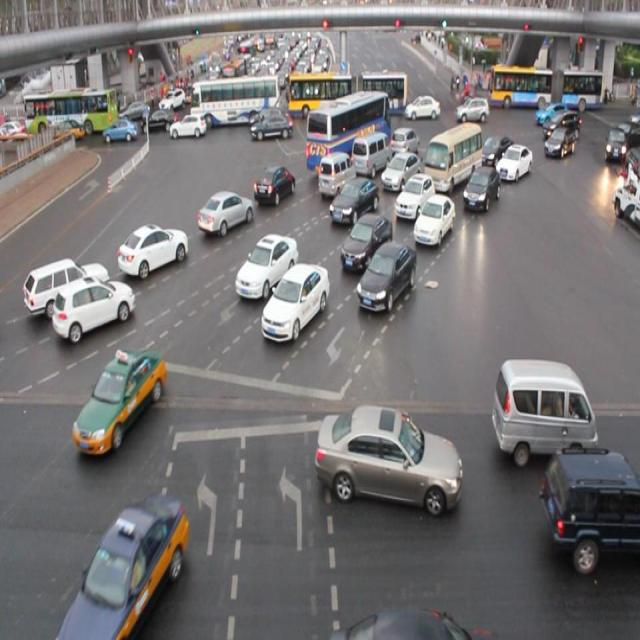car: (57, 492, 188, 640), (313, 404, 463, 514), (541, 448, 640, 574), (71, 346, 168, 459), (261, 263, 331, 345), (55, 275, 136, 344), (23, 255, 109, 319), (234, 233, 297, 298), (356, 244, 416, 311), (117, 222, 188, 278), (339, 214, 392, 266), (197, 188, 253, 236), (412, 192, 455, 252), (326, 178, 378, 224), (389, 173, 433, 224), (460, 166, 499, 212), (254, 164, 297, 205), (380, 150, 421, 188), (495, 142, 531, 180), (542, 124, 575, 158), (478, 131, 509, 166), (390, 125, 419, 161)
truck: (491, 356, 597, 464), (421, 126, 477, 190), (351, 132, 393, 178), (316, 153, 355, 198)
van: (306, 91, 392, 176)
